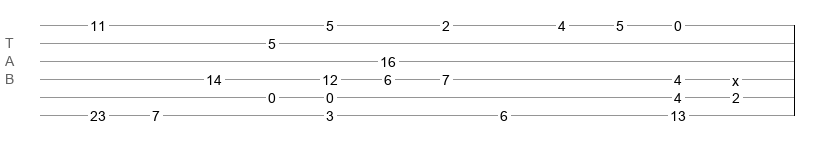0: (268, 90, 276, 100), (326, 90, 334, 100), (674, 18, 682, 28)
11: (90, 18, 106, 28)
12: (322, 72, 338, 82)
13: (670, 108, 686, 118)
14: (206, 72, 222, 82)
16: (380, 54, 396, 64)
2: (442, 18, 450, 28), (732, 90, 740, 100)
23: (90, 108, 106, 118)
3: (326, 108, 334, 118)
4: (558, 18, 566, 28), (674, 90, 682, 100), (674, 72, 682, 82)
5: (268, 36, 276, 46), (326, 18, 334, 28), (616, 18, 624, 28)
6: (384, 72, 392, 82), (500, 108, 508, 118)
7: (152, 108, 160, 118), (442, 72, 450, 82)
x: (732, 73, 739, 81)
